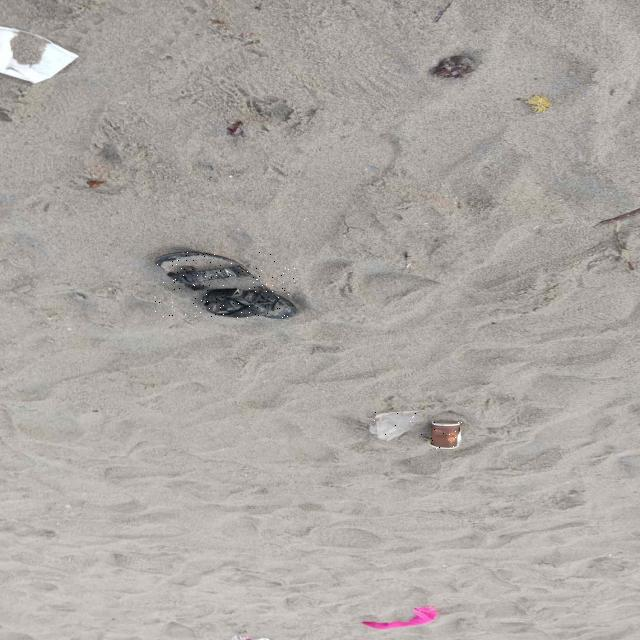other: (155, 252, 297, 318)
paper: (429, 422, 462, 449)
plastic: (368, 411, 422, 441)
